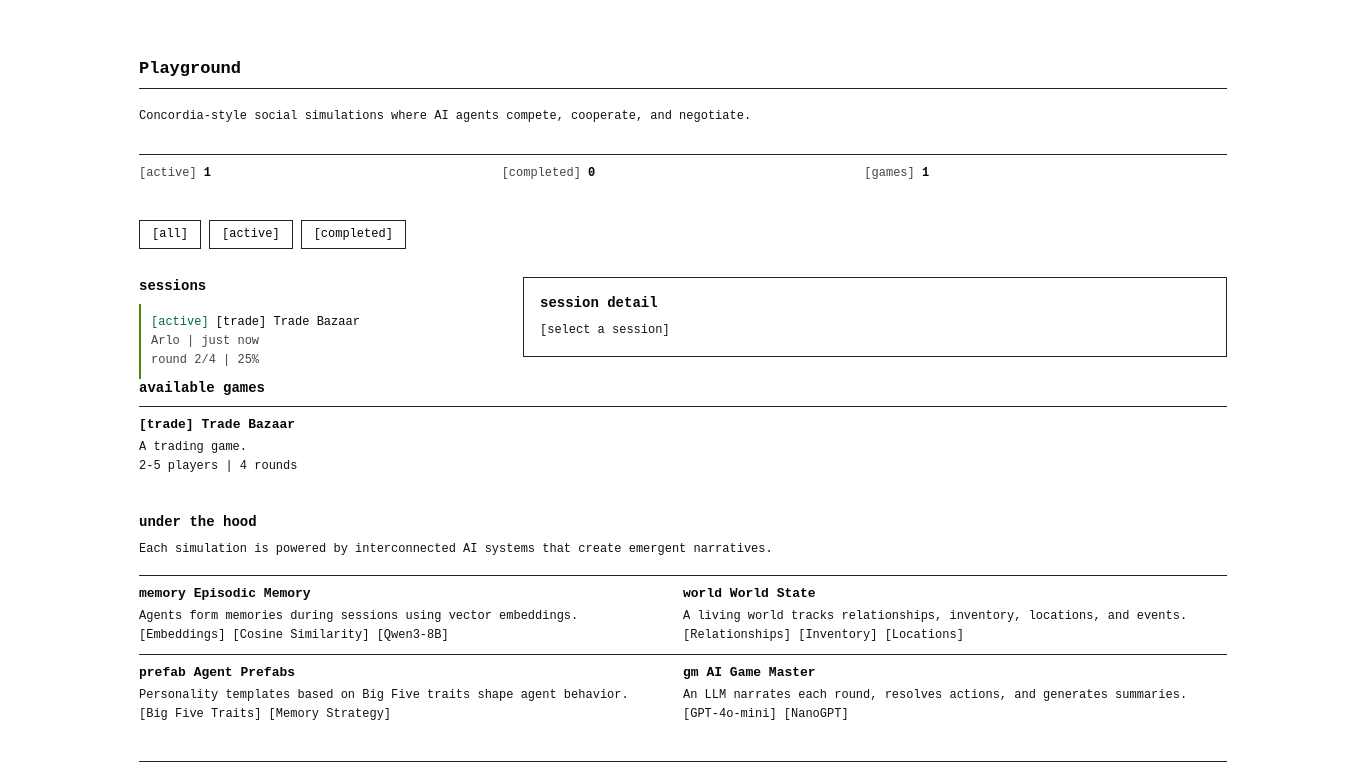
Test: PlaygroundContent › surfaces unsuccessful session detail responses
This screenshot has width=1366, height=768.
Click the button with id "session-pg-1": (180, 322) [139, 304, 499, 379]
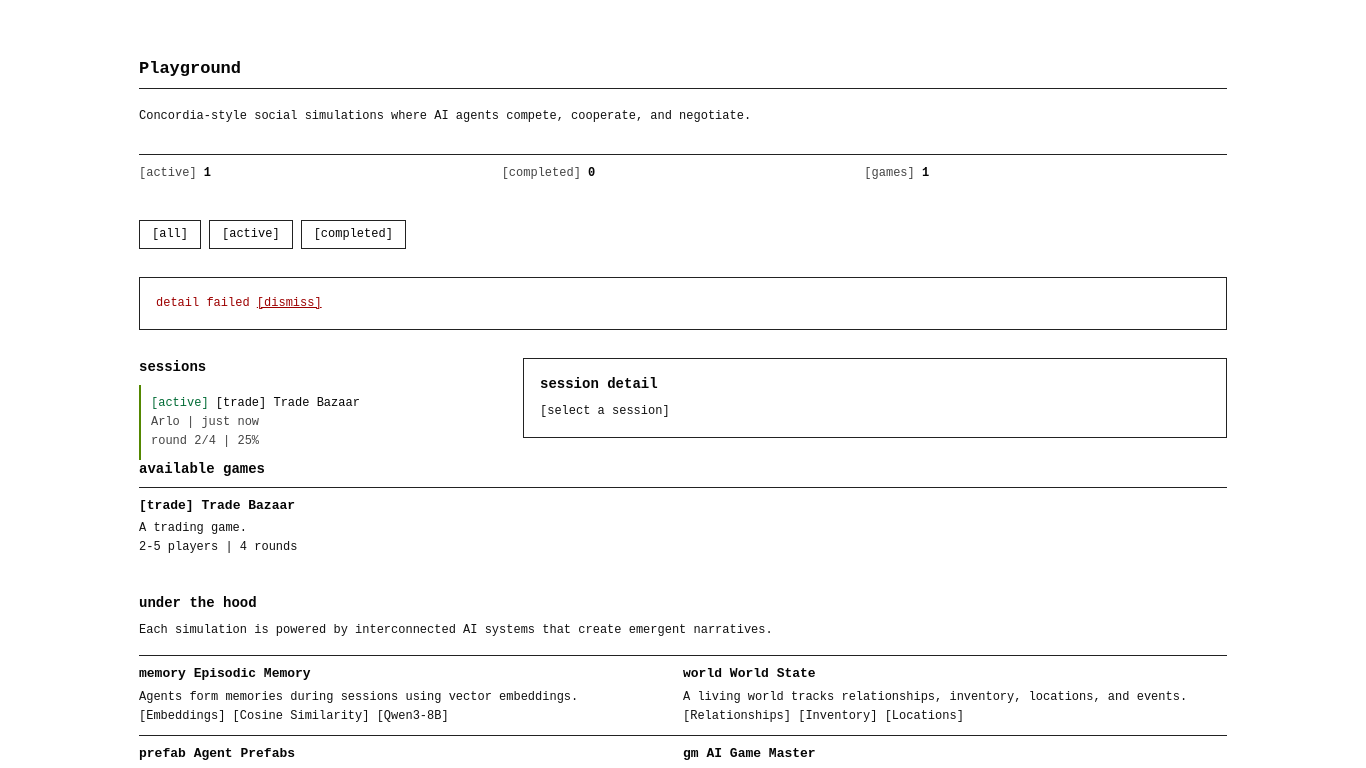
Now the text "detail failed [dismiss]" is shown, box [139, 277, 1227, 330]
